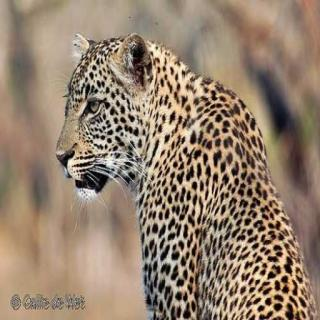Leopard: (45, 19, 312, 320)
